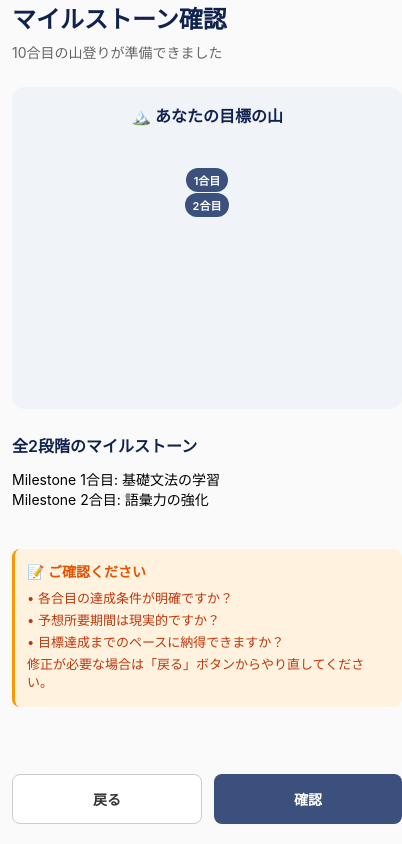
Test: MilestoneStep 統合テスト › マイルストーンの展開 › 展開中のマイルストーンを再度クリックすると折りたたまれること
Click the text "Milestone 1合目: 基礎文法の学習".
click(116, 480)  # box x1=12 y1=471 x2=220 y2=488
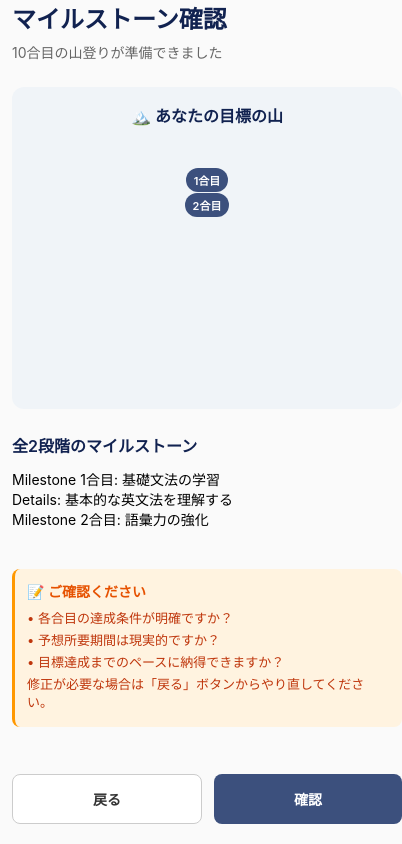
Result: the text "Details: 基本的な英文法を理解する" is shown at x1=12 y1=491 x2=233 y2=508
Click the text "Milestone 1合目: 基礎文法の学習".
click(116, 480)  # box x1=12 y1=471 x2=220 y2=488
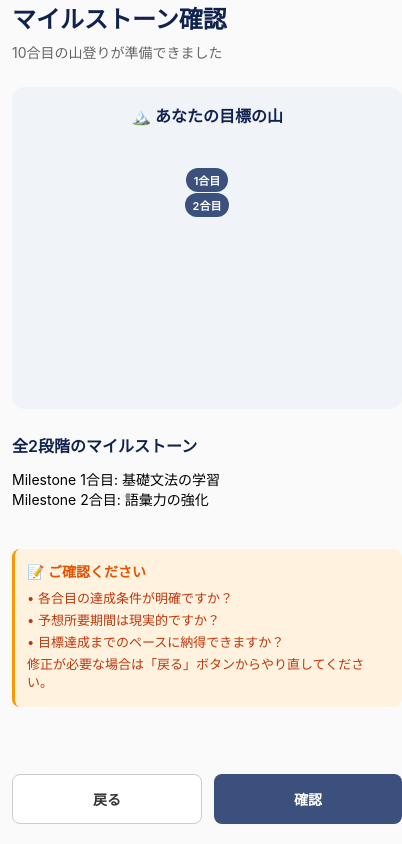
Result: the text "Details: 基本的な英文法を理解する" is gone
